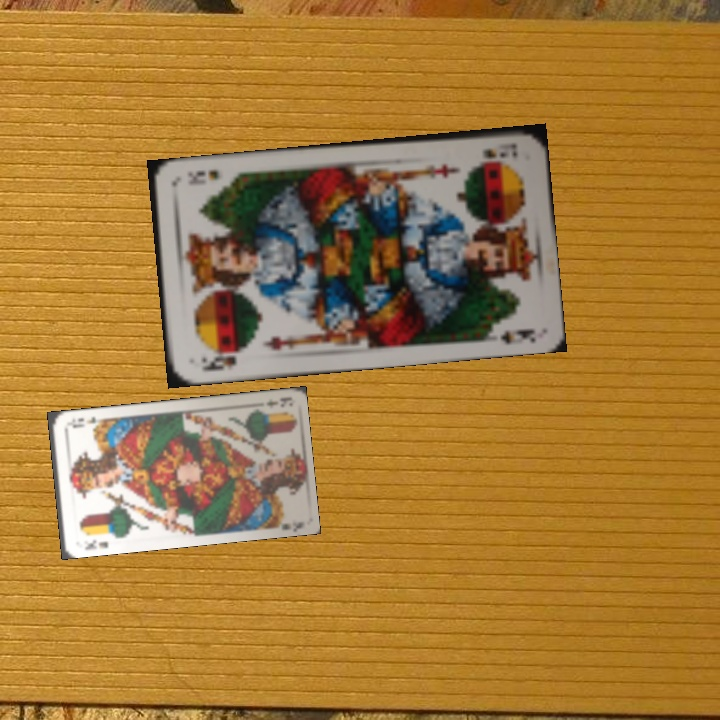EK: (81, 535, 110, 552), (262, 393, 291, 410)
SK: (197, 345, 249, 374), (478, 139, 520, 162)
